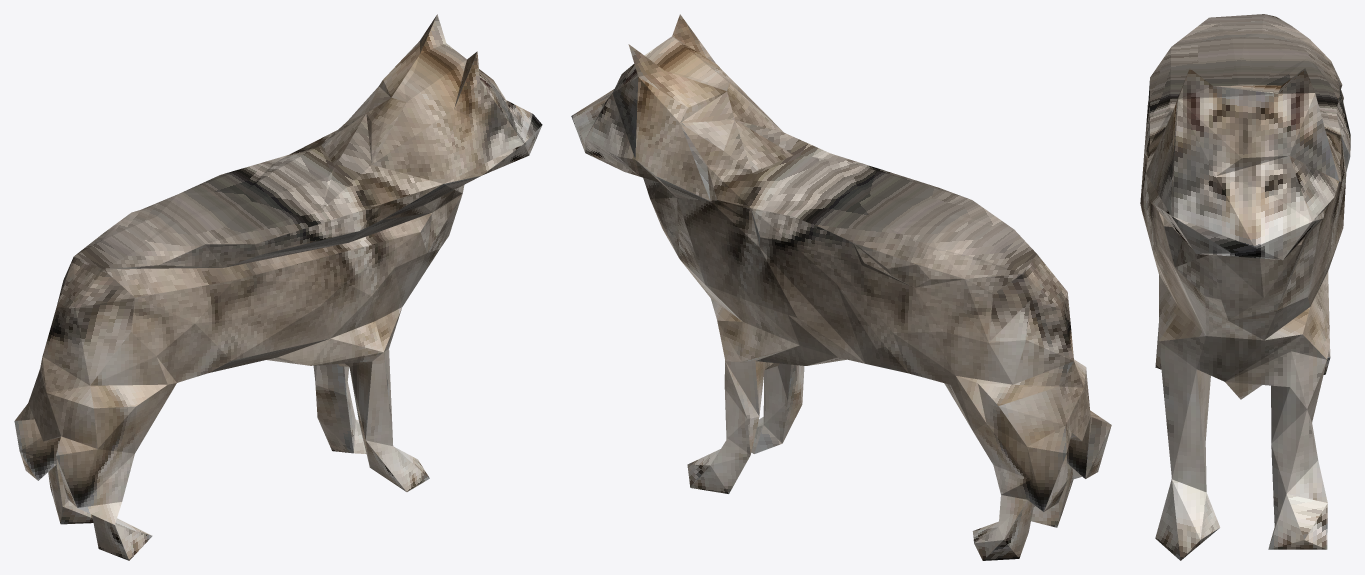
File: animal.salvaje.perro_salvaje.glb
3 renders of one model, left to right at view 1: azimuth 30°, elevation 25°; view 2: azimuth 150°, elevation 25°; view 3: azimuth 270°, elevation 25°, orthographic. The views are drawn at different scales.
Visible parts, largest first — view 1: animal.salvaje.perro_salvaje; view 2: animal.salvaje.perro_salvaje; view 3: animal.salvaje.perro_salvaje.
Part boxes in pixels (x1=…): animal.salvaje.perro_salvaje: x1=14, y1=14, x2=542, y2=560; animal.salvaje.perro_salvaje: x1=571, y1=14, x2=1111, y2=560; animal.salvaje.perro_salvaje: x1=1140, y1=14, x2=1350, y2=560.
Bounding box in the file's own units: 1.07 × 0.8432 × 0.3041.
1 material, 1 textured.
